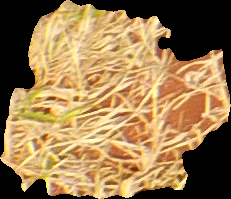soil: (3, 3, 228, 196)
